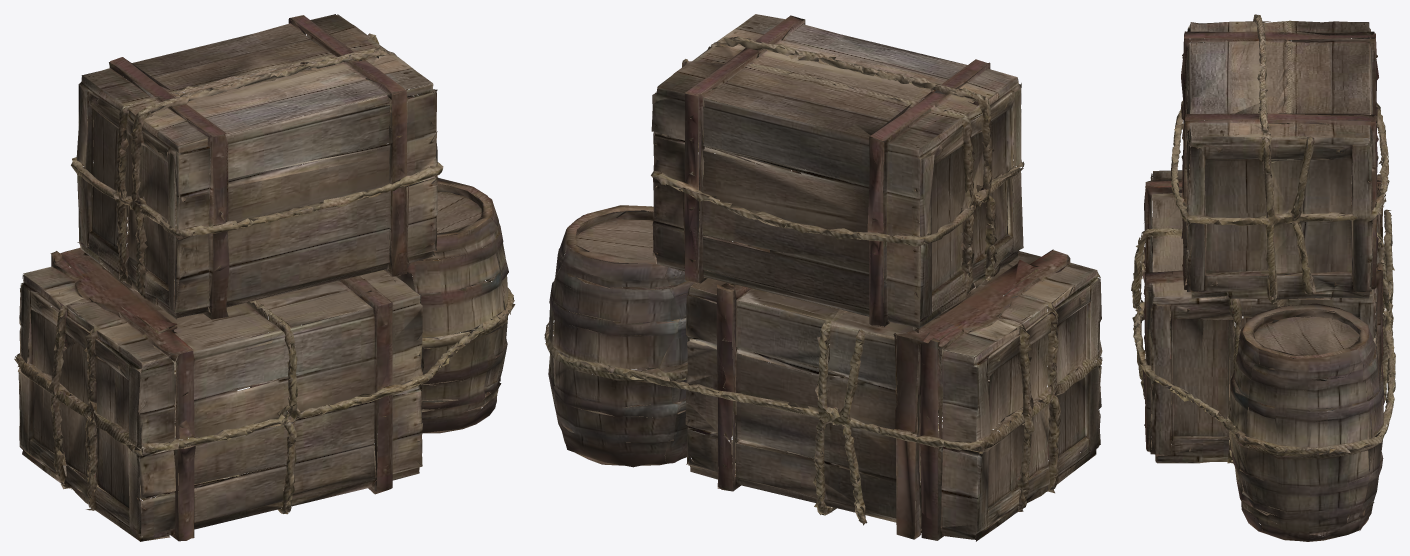
File: organizer-crate-perch.glb
The picture shows the model from 3 angles, left to right: view 1: azimuth 30°, elevation 25°; view 2: azimuth 150°, elevation 25°; view 3: azimuth 270°, elevation 25°; orthographic projection. The views are drawn at different scales.
Visible parts, largest first — view 1: organizer-crate-perch_mesh; view 2: organizer-crate-perch_mesh; view 3: organizer-crate-perch_mesh.
Boxes of the visible parts, x1,y1,x2,y2 form: organizer-crate-perch_mesh: [14, 14, 515, 541]; organizer-crate-perch_mesh: [544, 14, 1102, 541]; organizer-crate-perch_mesh: [1131, 14, 1395, 541].
Size of the model in its own units: 1.9 by 1.57 by 1.03.
1 material, 1 textured.
